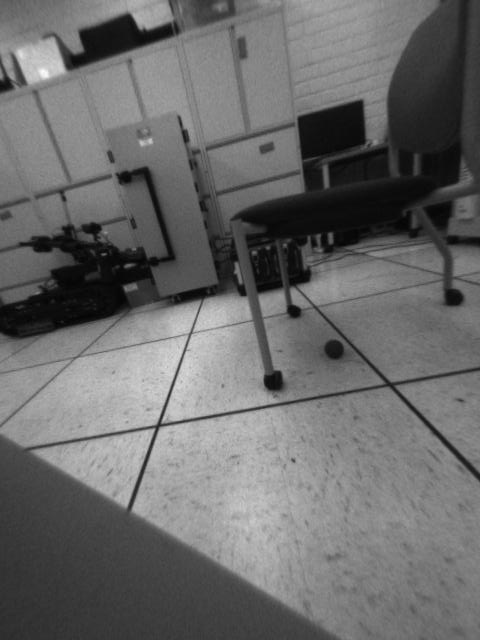dogtoy: (319, 333, 348, 364)
